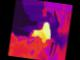Foc: (26, 16, 54, 44)
